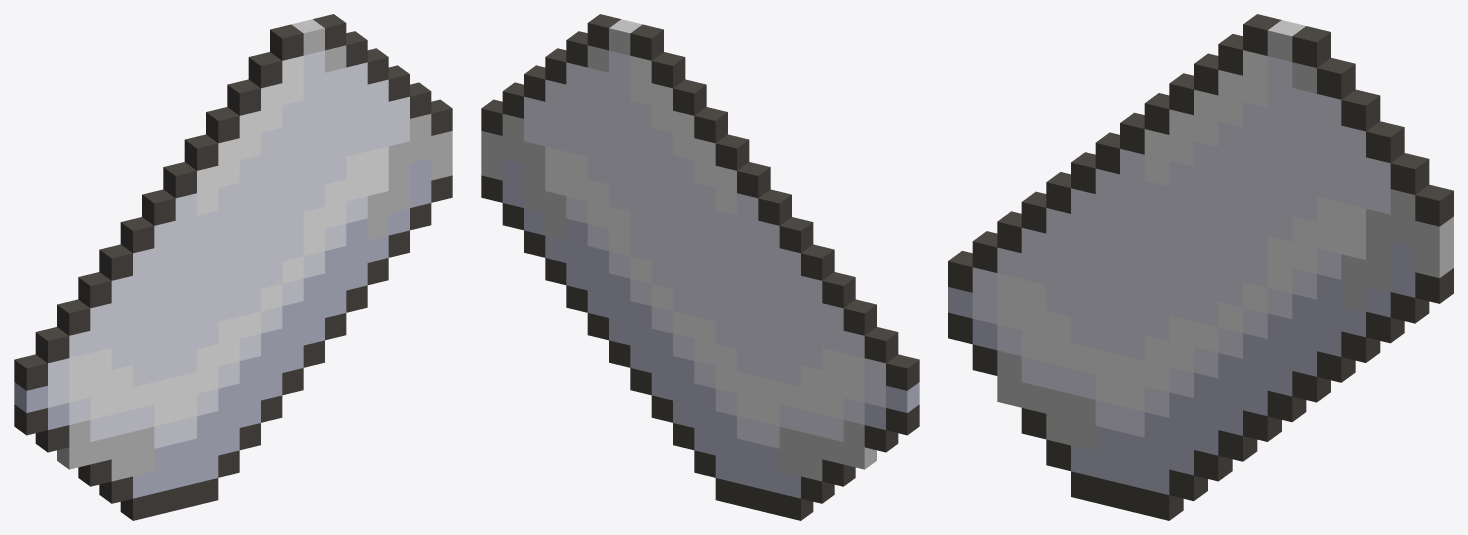
The model's file is IronIngot.obj.
3 views of the same model, side by side, from view 1: azimuth 30°, elevation 25°; view 2: azimuth 150°, elevation 25°; view 3: azimuth 330°, elevation 25° (orthographic). The views are drawn at different scales.
Size of the model in its own units: 2 by 2 by 0.1.
Materials: 1 (1 with a texture image).
